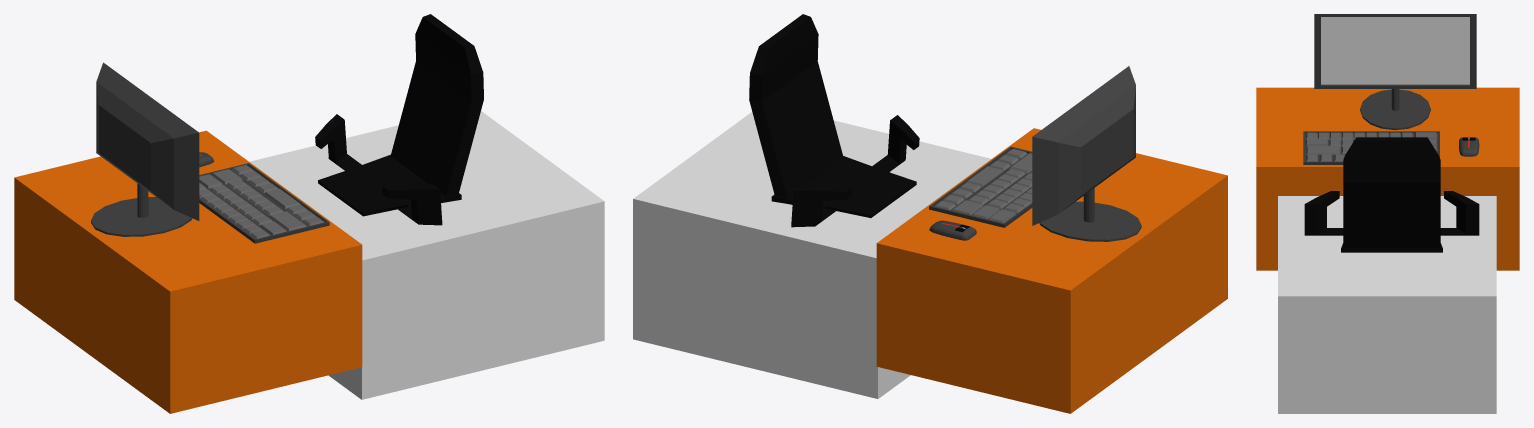
The model's file is Central de Ergonomia.fbx.
3 views of the same model, side by side, from view 1: azimuth 30°, elevation 25°; view 2: azimuth 150°, elevation 25°; view 3: azimuth 270°, elevation 25° (orthographic). The views are drawn at different scales.
Parts seen in each view (by area): view 1: Cube.004, Cube.014, Cube.015, Cube, Cube.001, Cube.002, Cube.005, Cube.009; view 2: Cube.004, Cube.014, Cube.015, Cube, Cube.001, Cube.009, Cube.007, Cube.005; view 3: Cube.014, Cube.004, Cube, Cube.015, Cube.001, Cube.002, Cube.007, Cube.008, Cube.011.
Part boxes in pixels (box(x1,y1,x2,y2)): Cube.004: box(14, 130, 362, 413); Cube.014: box(249, 111, 604, 399); Cube.015: box(315, 14, 483, 225); Cube: box(91, 62, 199, 236); Cube.001: box(199, 163, 329, 243); Cube.002: box(199, 188, 269, 238); Cube.005: box(210, 185, 272, 225); Cube.009: box(226, 179, 283, 215); Cube.004: box(876, 128, 1227, 413); Cube.014: box(633, 112, 991, 398); Cube.015: box(749, 14, 919, 227); Cube: box(1032, 66, 1141, 241); Cube.001: box(929, 146, 1032, 227); Cube.009: box(968, 169, 1025, 204); Cube.007: box(929, 220, 976, 240); Cube.005: box(987, 172, 1032, 208); Cube.014: box(1278, 196, 1496, 413); Cube.004: box(1256, 87, 1519, 270); Cube: box(1314, 14, 1476, 130); Cube.015: box(1304, 137, 1479, 252); Cube.001: box(1303, 131, 1439, 164); Cube.002: box(1306, 132, 1412, 139); Cube.007: box(1459, 137, 1479, 156); Cube.008: box(1306, 146, 1340, 154); Cube.011: box(1306, 154, 1344, 161).
Size of the model in its own units: 1751 by 1069 by 1057.
